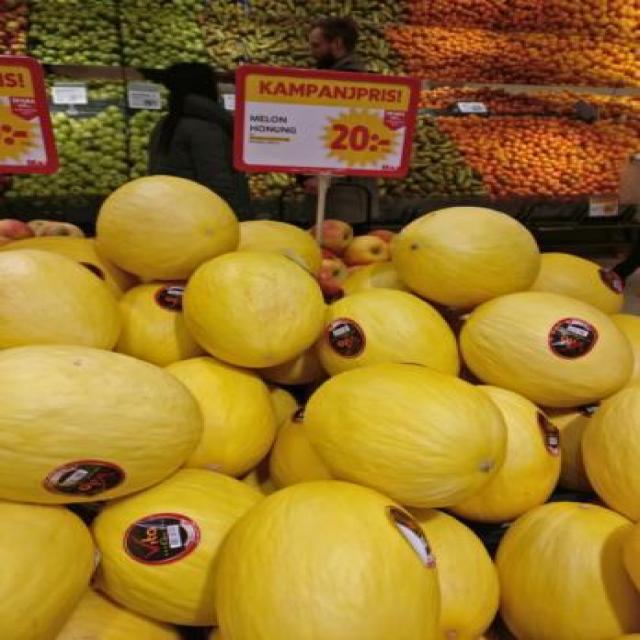Honeydew: (222, 482, 440, 638), (0, 345, 206, 502), (311, 363, 509, 506), (458, 292, 636, 407), (493, 502, 638, 639), (191, 250, 326, 367), (99, 175, 241, 276), (401, 206, 542, 302), (4, 252, 120, 349)
